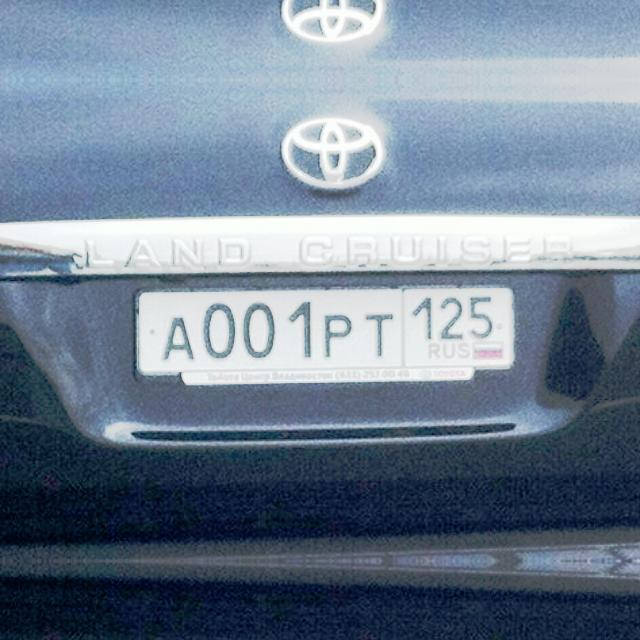citizen: (128, 282, 522, 392)
